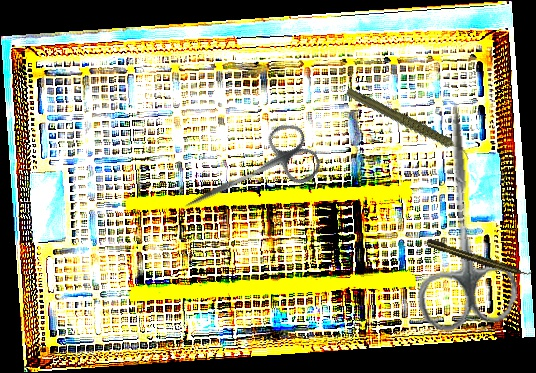Handpiece: (343, 65, 473, 184), (425, 237, 533, 281)
Iris Scissors: (400, 98, 521, 334), (171, 116, 326, 237)
